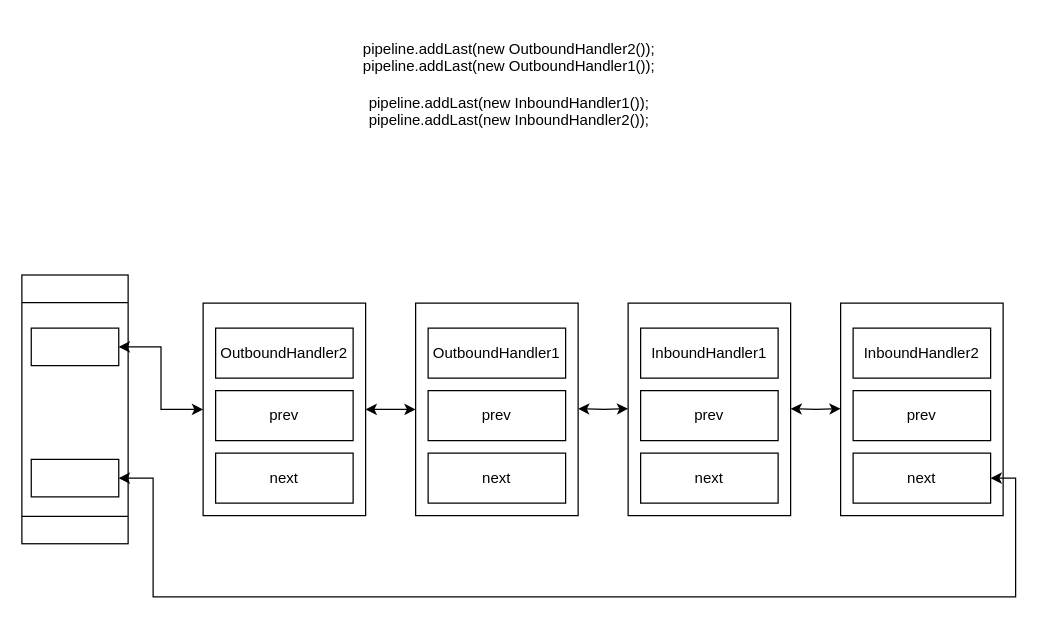
Some shapes in this 1049 by 630 pixel diagram are drawn without their labels. Here are the shapes that lost their labels. From the top down, the box of each, then its label:
(30, 327, 119, 366): head
(21, 274, 128, 544): pipeline
(30, 458, 119, 497): tail
